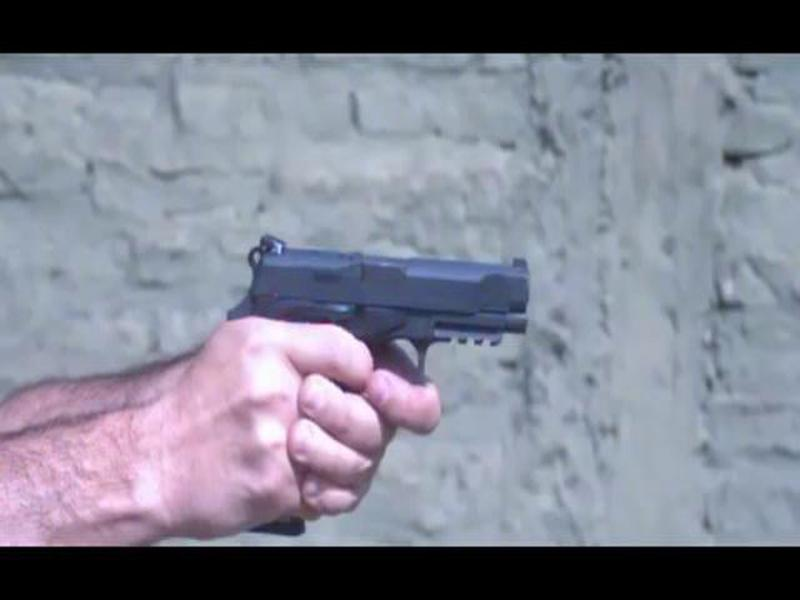Pistola: (174, 236, 528, 536)
